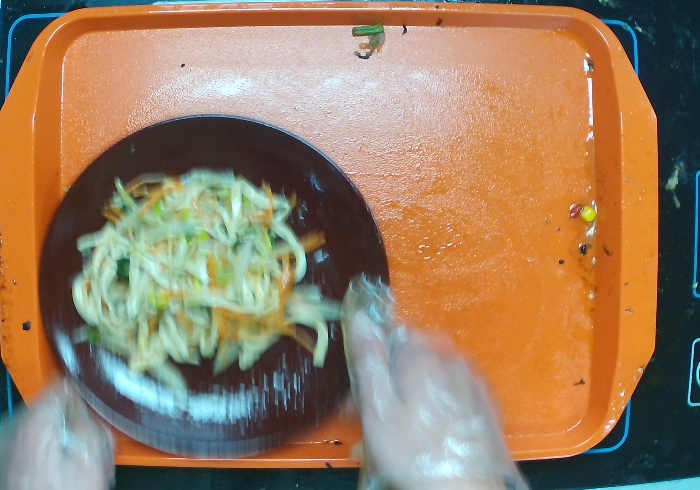HZYJPL-Ka_Fei_Yuan_Pan: (36, 112, 391, 455)
